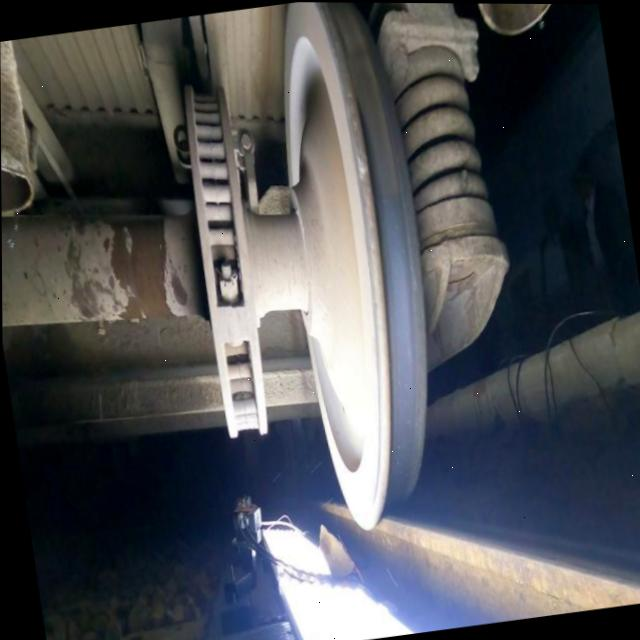Cracks-Scratches: (353, 149, 370, 177)
Shelling: (329, 3, 399, 189)
Wheel: (283, 2, 427, 528)
